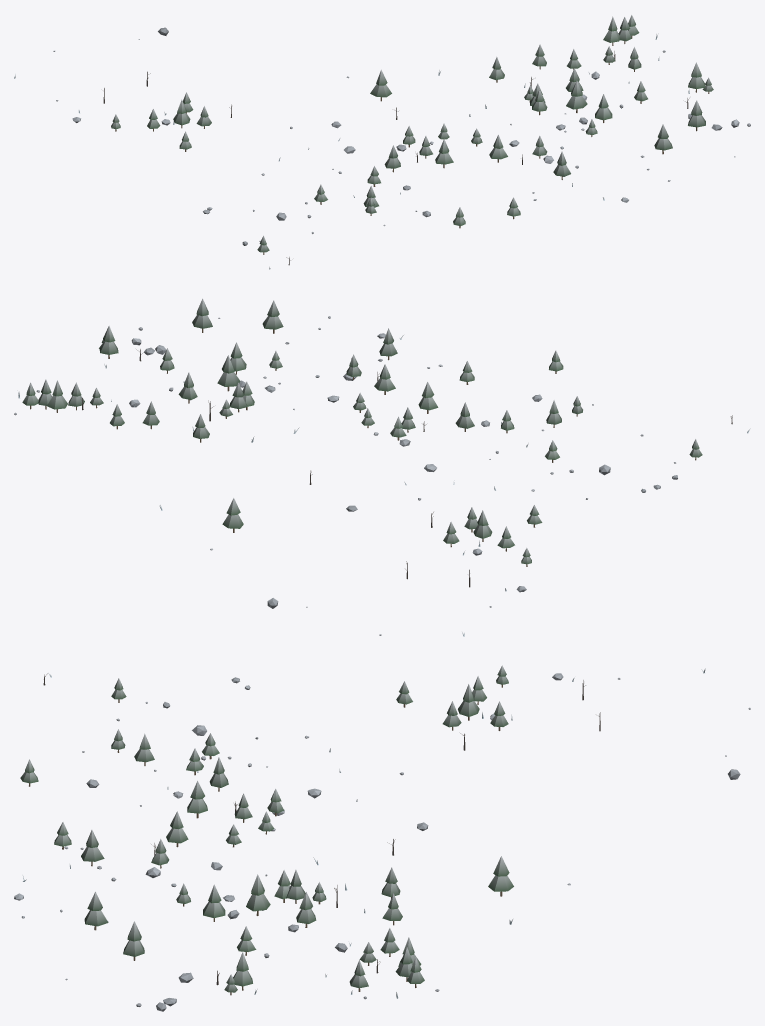
Rendered from frost_land_scatter_c15_10_lod1.glb.
3 renders of one model, top to bottom at view 1: azimuth 30°, elevation 25°; view 2: azimuth 150°, elevation 25°; view 3: azimuth 270°, elevation 25°, orthographic. The views are drawn at different scales.
Visible parts, largest first — view 1: frost_land_scatter_c15_10_lod1; view 2: frost_land_scatter_c15_10_lod1; view 3: frost_land_scatter_c15_10_lod1.
Part boxes in pixels (box(x1,y1,x2,y2)): frost_land_scatter_c15_10_lod1: box(14, 15, 750, 269); frost_land_scatter_c15_10_lod1: box(14, 298, 750, 636); frost_land_scatter_c15_10_lod1: box(14, 665, 750, 1011).
Bounding box in the file's own units: 255 × 30.83 × 243.
